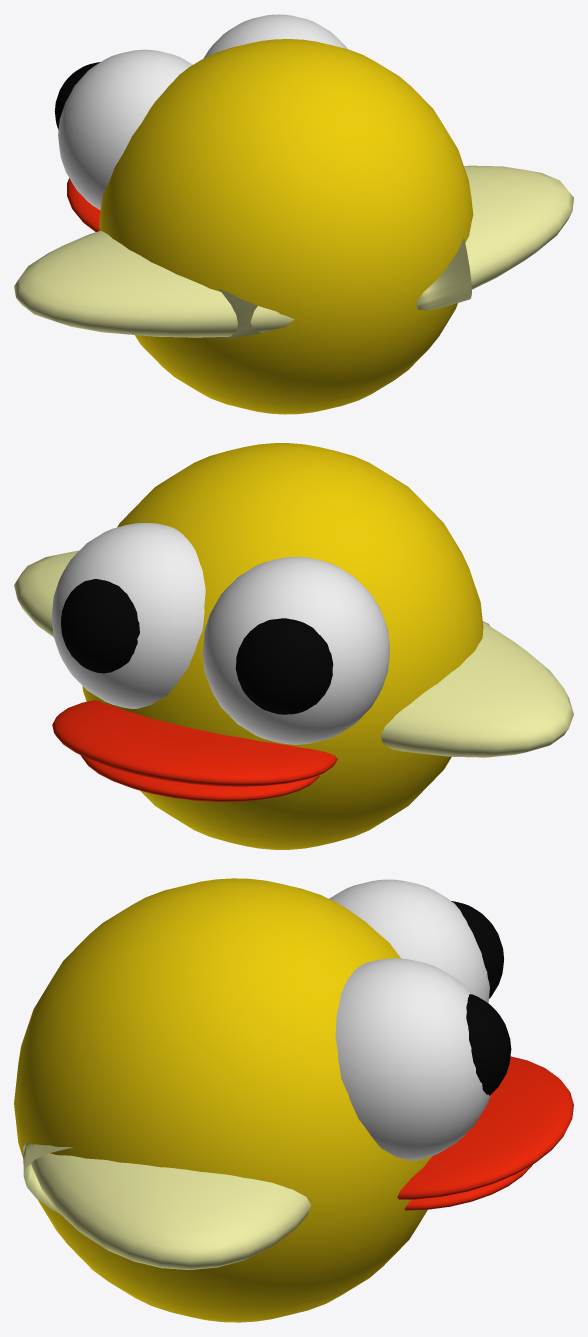
The model's file is flappy_fix2.glb.
3 views of the same model, one above another, from view 1: azimuth 30°, elevation 25°; view 2: azimuth 150°, elevation 25°; view 3: azimuth 270°, elevation 25° (orthographic). The views are drawn at different scales.
Visible parts, largest first — view 1: MAIN BODY; view 2: MAIN BODY; view 3: MAIN BODY.
Part boxes in pixels (box(x1,y1,x2,y2)): MAIN BODY: box(14, 14, 573, 414); MAIN BODY: box(14, 443, 573, 849); MAIN BODY: box(14, 878, 573, 1322).
Size of the model in its own units: 0.4537 by 0.2837 by 0.3573.
